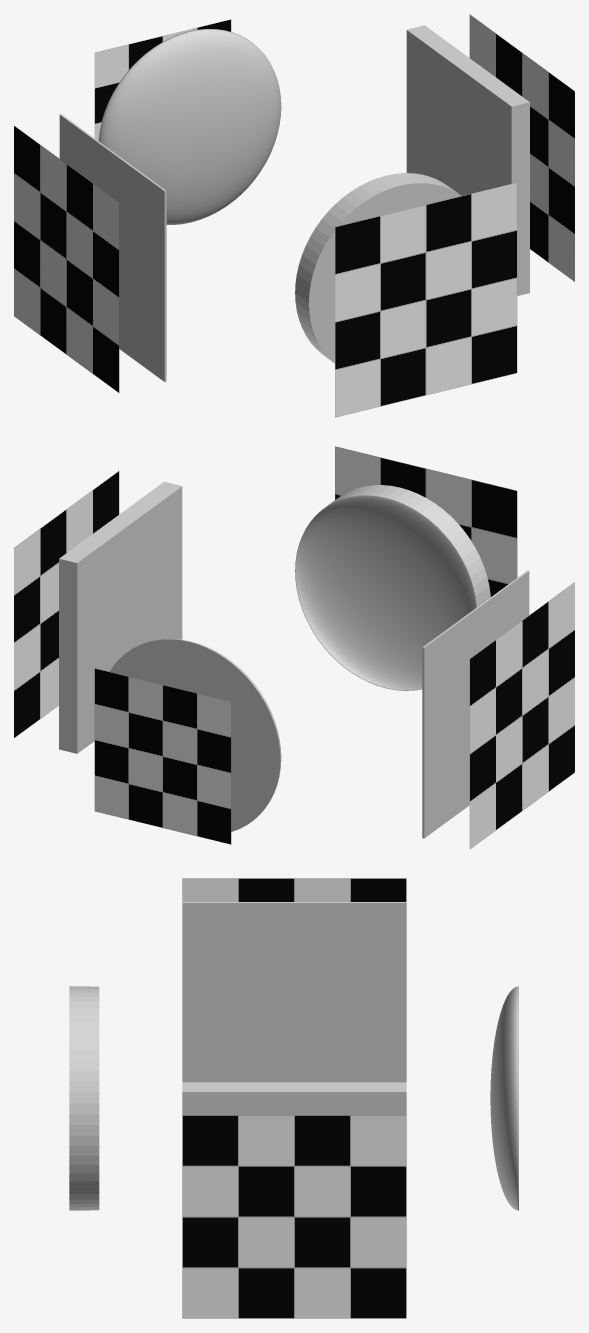
File: lense1.glb
3 views of the same model, one above another, from view 1: azimuth 30°, elevation 25°; view 2: azimuth 150°, elevation 25°; view 3: azimuth 270°, elevation 25° (orthographic). The views are drawn at different scales.
Visible parts, largest first — view 1: Plane.001, Sphere, Plane.003, Plane, Cube, Plane.002, Sphere.001, Plane.004; view 2: Sphere.001, Plane, Plane.003, Plane.004, Cube, Plane.002, Sphere, Plane.001; view 3: Plane.002, Cube, Plane, Sphere.001, Plane.003, Sphere.
Part boxes in pixels (bbox=[...]): Plane.001: bbox=[335, 182, 517, 417]; Sphere: bbox=[98, 29, 281, 224]; Plane.003: bbox=[14, 126, 119, 392]; Plane: bbox=[406, 25, 529, 295]; Cube: bbox=[59, 114, 166, 381]; Plane.002: bbox=[469, 14, 574, 281]; Sphere.001: bbox=[295, 173, 461, 363]; Plane.004: bbox=[94, 19, 231, 140]; Sphere.001: bbox=[295, 485, 490, 690]; Plane: bbox=[59, 481, 182, 753]; Plane.003: bbox=[469, 582, 574, 849]; Plane.004: bbox=[94, 668, 231, 844]; Cube: bbox=[422, 570, 529, 838]; Plane.002: bbox=[14, 471, 119, 737]; Sphere: bbox=[109, 639, 281, 831]; Plane.001: bbox=[335, 446, 517, 596]; Plane.002: bbox=[182, 1115, 406, 1318]; Cube: bbox=[182, 902, 406, 1082]; Plane: bbox=[182, 1082, 406, 1115]; Sphere.001: bbox=[69, 986, 99, 1210]; Plane.003: bbox=[182, 878, 406, 901]; Sphere: bbox=[490, 986, 518, 1210].
Bounding box in the file's own units: 5 × 2 × 5.
2 materials, 1 textured.
